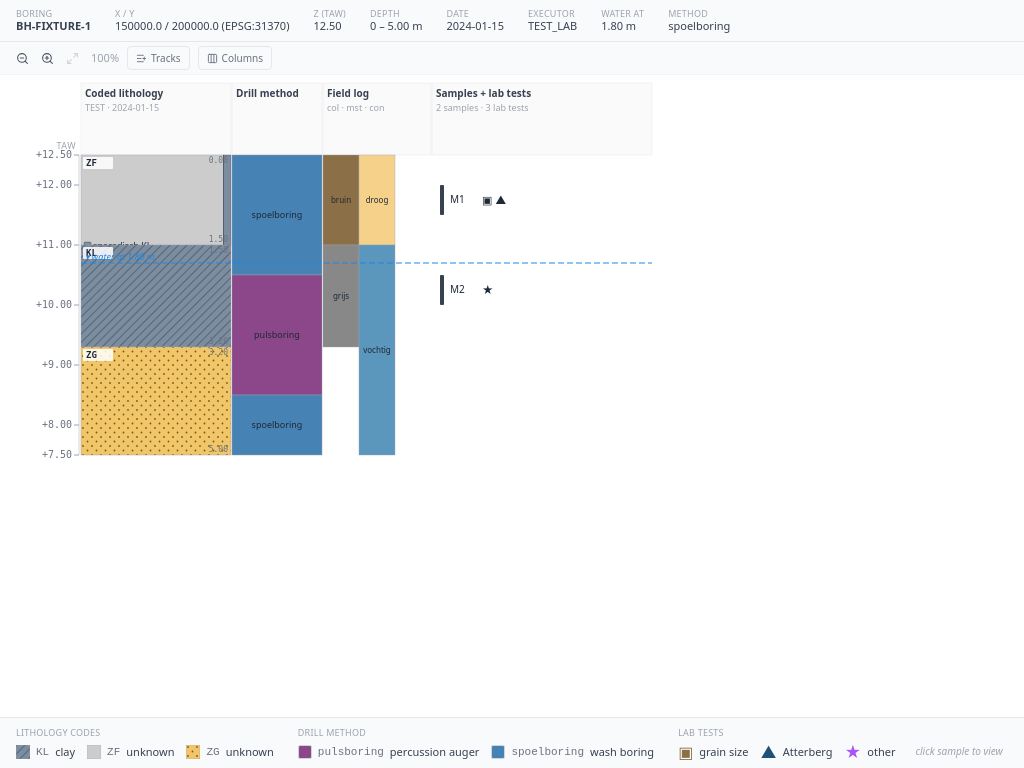
Test case: BoreholeLog — Tracks button › opens the Tracks panel of this borehole
Click the button with test id "borelog-tracks-button". click: [158, 58]
box: [127, 46, 190, 70]
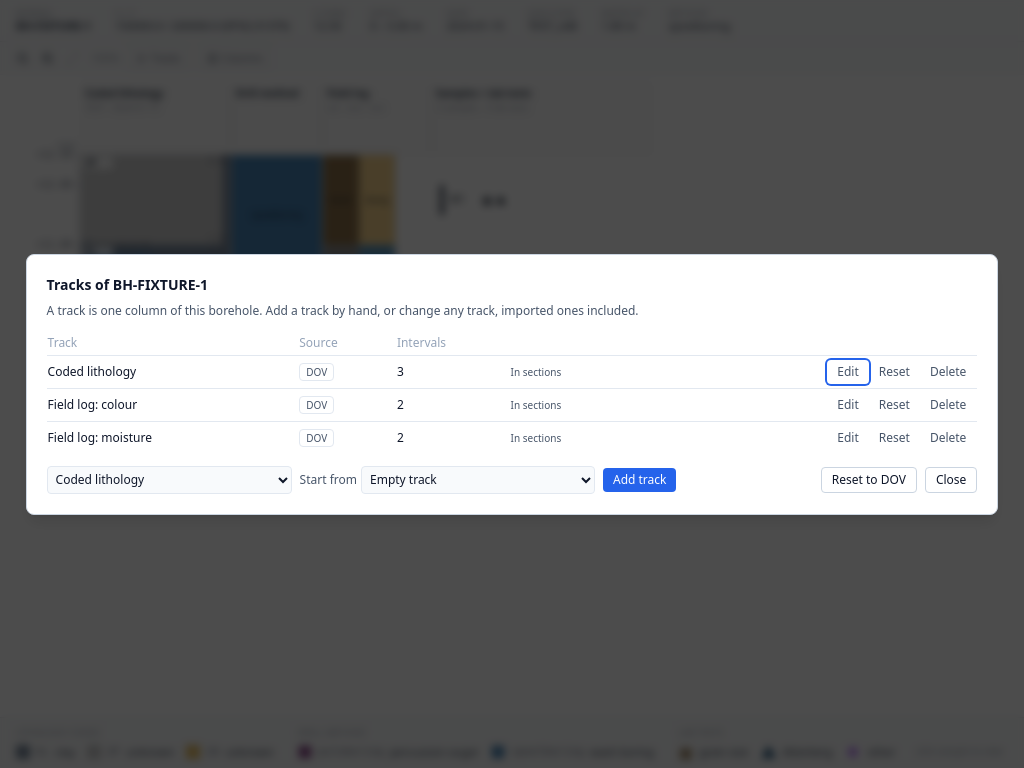
Expected: the dialog "Tracks of BH-FIXTURE-1" is shown, [26, 254, 998, 514]
